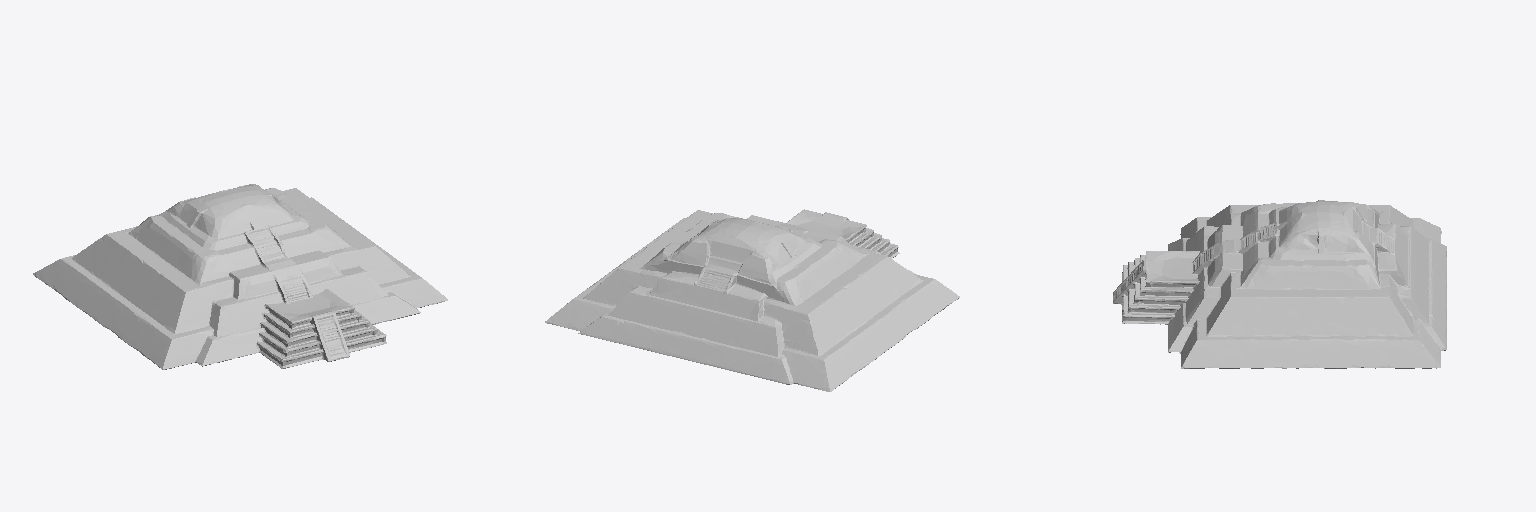
Rendered from Pyramid_Viewpoint_1122092635_texture.obj.
3 renders of one model, left to right at view 1: azimuth 30°, elevation 25°; view 2: azimuth 150°, elevation 25°; view 3: azimuth 270°, elevation 25°, orthographic.
Visible parts, largest first — view 1: Pyramid_Viewpoint_[number redacted]_texture; view 2: Pyramid_Viewpoint_[number redacted]_texture; view 3: Pyramid_Viewpoint_[number redacted]_texture.
Boxes of the visible parts, x1,y1,x2,y2 form: Pyramid_Viewpoint_[number redacted]_texture: [33, 184, 447, 369]; Pyramid_Viewpoint_[number redacted]_texture: [545, 209, 959, 391]; Pyramid_Viewpoint_[number redacted]_texture: [1113, 200, 1446, 368].
Bounding box in the file's own units: 34.36 × 10 × 34.72.